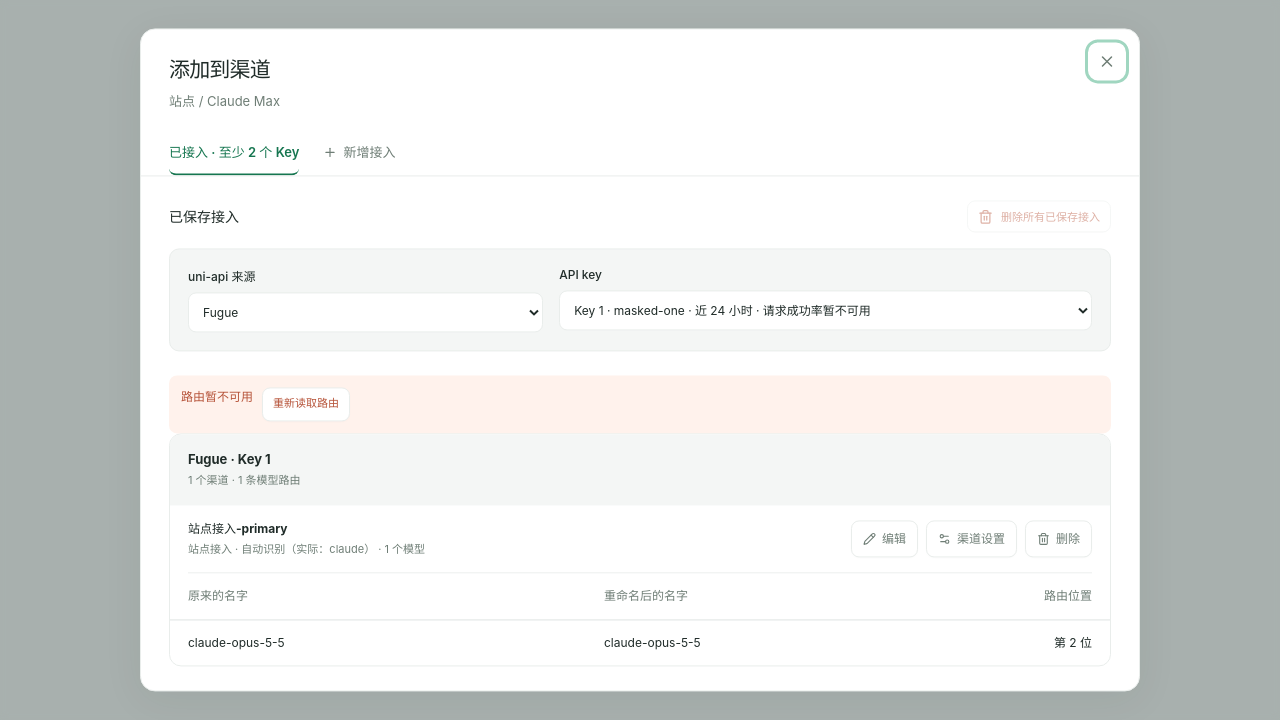
Scenario: keeps imported bindings visible when native routes fail and can retry the shared selector
expect the message shows "路由暂不可用": met, box [181,389,253,404]
expect the table shows "claude-opus-5-5": met, box [188,635,285,650]
Click the button "重新读取路由".
click(306, 404)  # box [262,387,350,421]
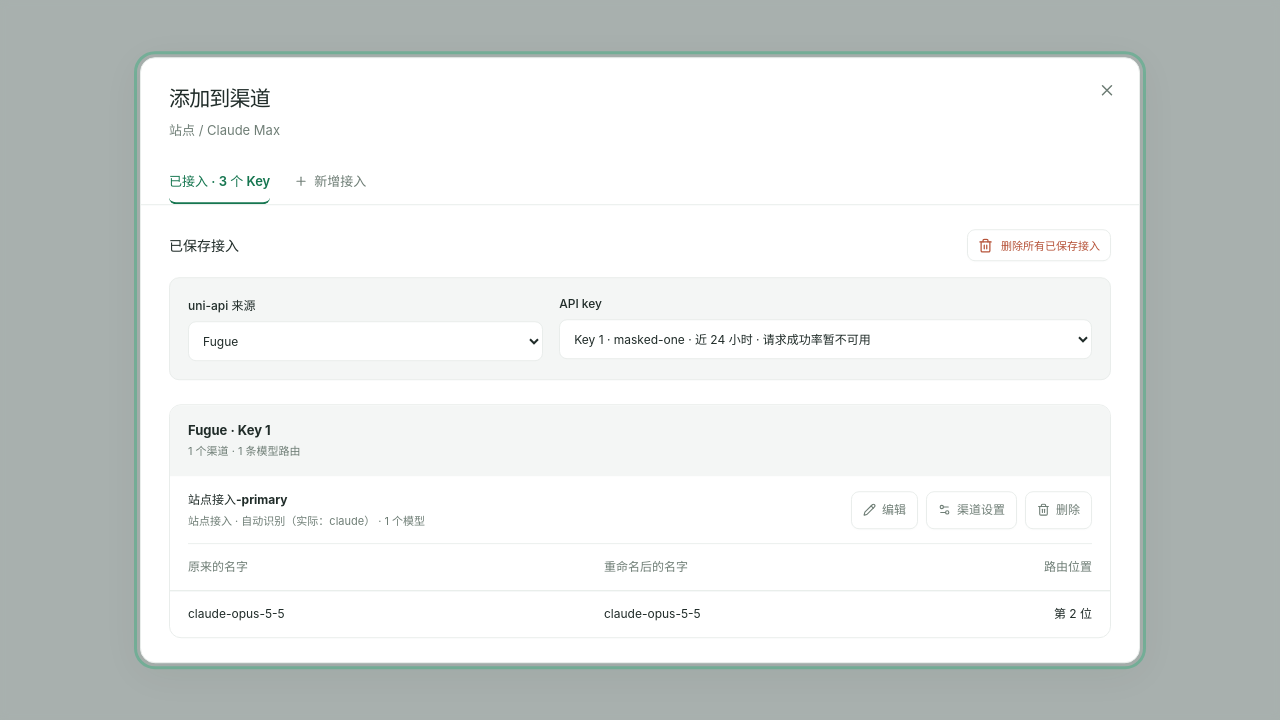
Select "Key 2 · masked-two · 近 24 小时 · 请求成功率暂不可用" in the dropdown named "查看 API key" at (826, 339), box [559,319,1092,359]
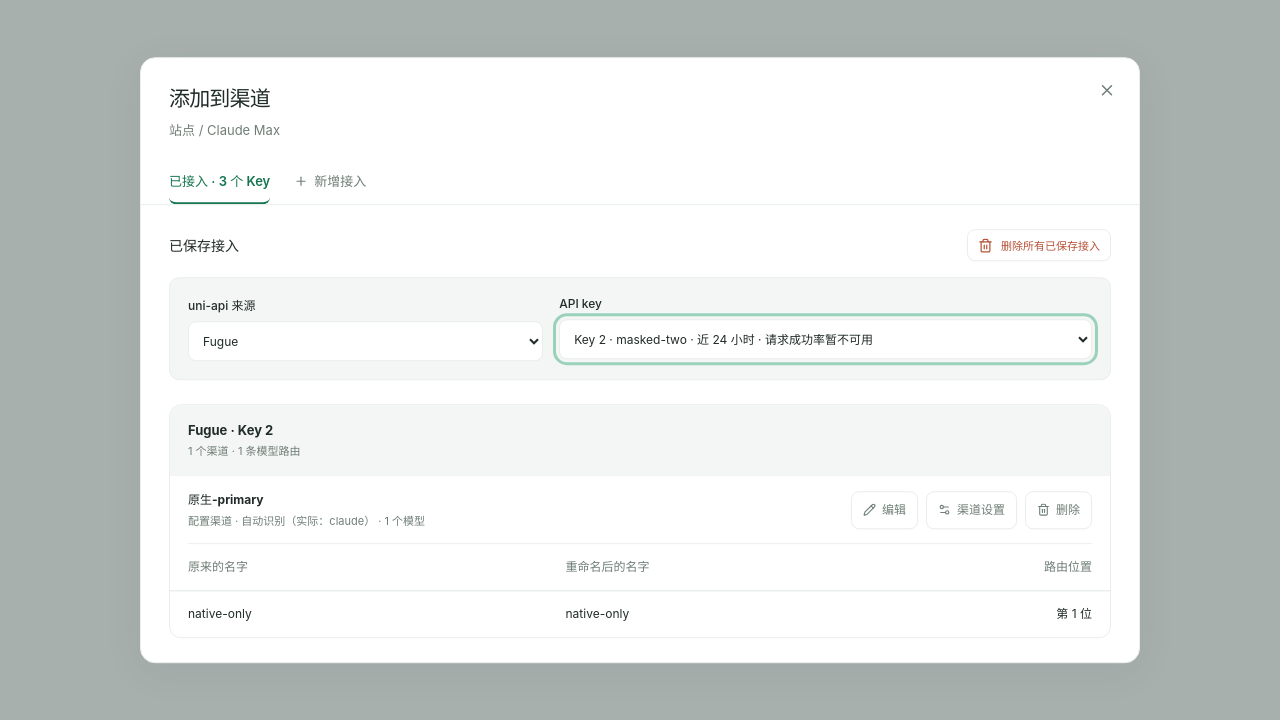
expect the table shows "native-only": met, box [188,606,252,621]
